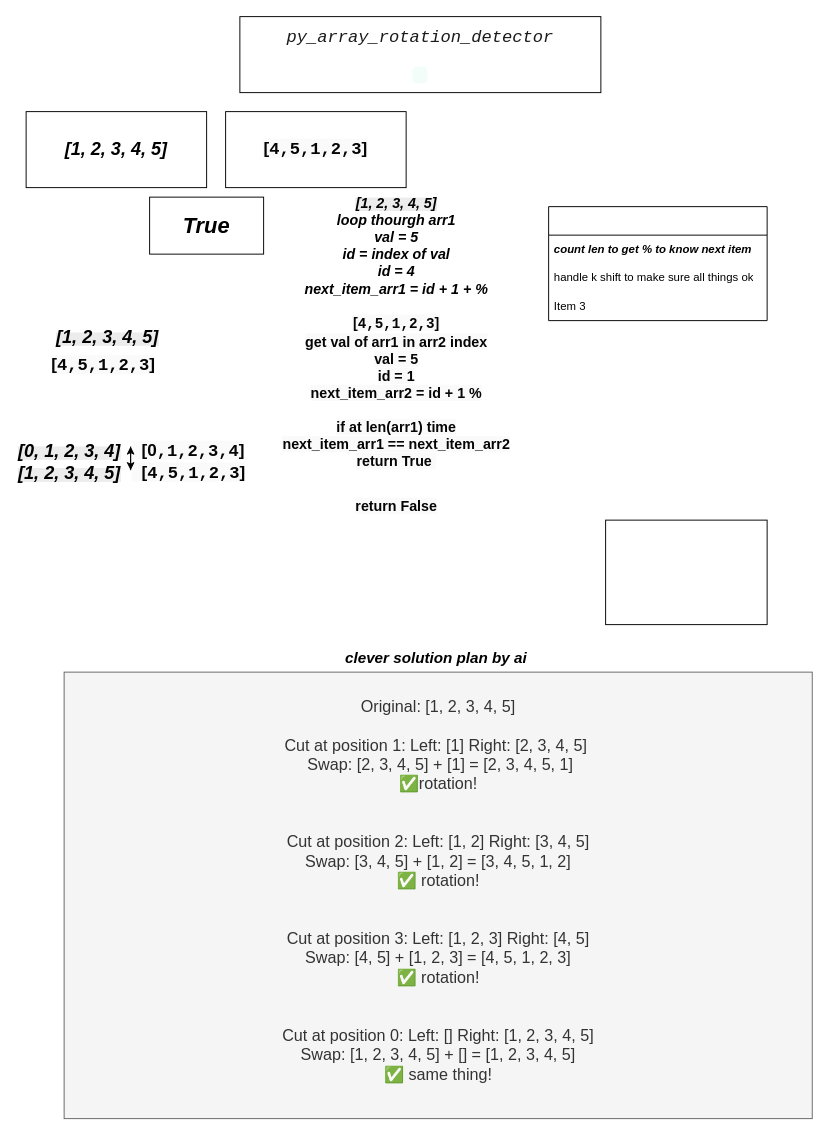
Image size: 828x1135. Some labels were removed from this diagram. Here are the shapes that lost their labels. From the top down, the box of each, then its label:
(548, 206, 767, 321): to do
(605, 519, 767, 625): each case [1,2,1,3], [1,3,1,2] should be true ma code get false
